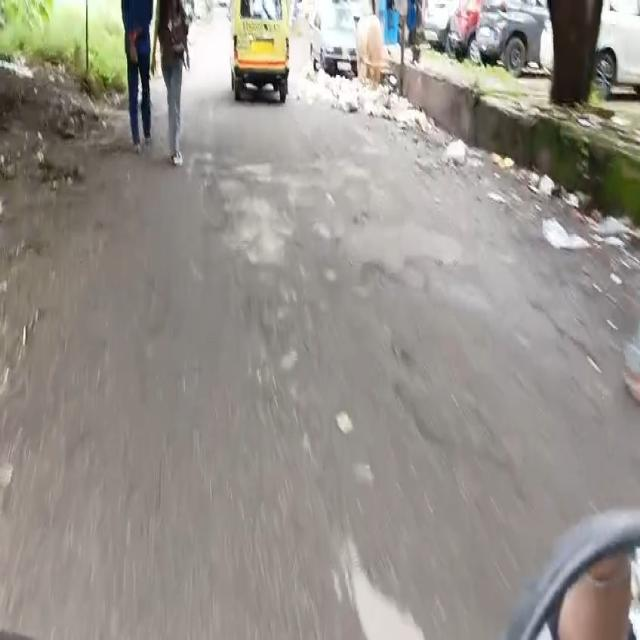road-pothole: (198, 163, 346, 296)
